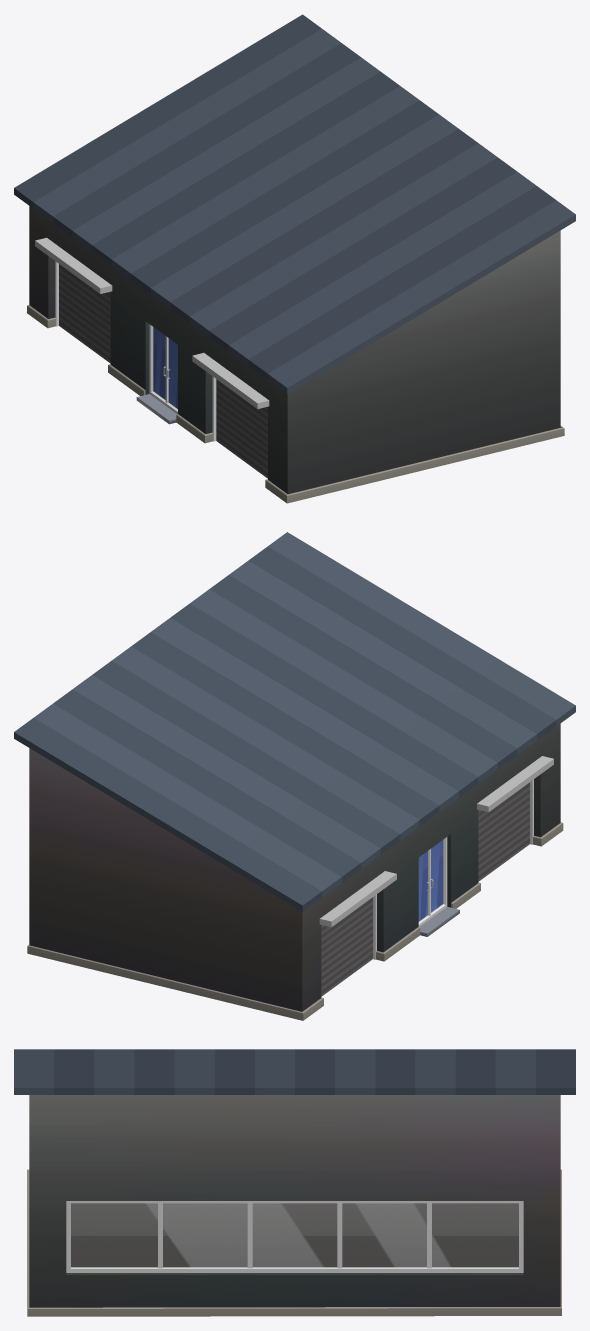
File: Building_Factory_2_D.fbx
3 views of the same model, one above another, from view 1: azimuth 30°, elevation 25°; view 2: azimuth 150°, elevation 25°; view 3: azimuth 270°, elevation 25° (orthographic). The views are drawn at different scales.
Visible parts, largest first — view 1: Building_Factory_2_D; view 2: Building_Factory_2_D; view 3: Building_Factory_2_D.
Boxes of the visible parts, x1=… form: Building_Factory_2_D: x1=14, y1=14, x2=575, y2=503; Building_Factory_2_D: x1=14, y1=532, x2=575, y2=1020; Building_Factory_2_D: x1=14, y1=1049, x2=575, y2=1316.
Size of the model in its own units: 910 by 669 by 1473.
